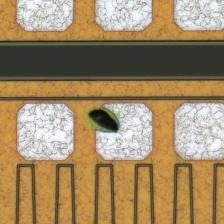BLOCK ETCH: (84, 102, 124, 142)
